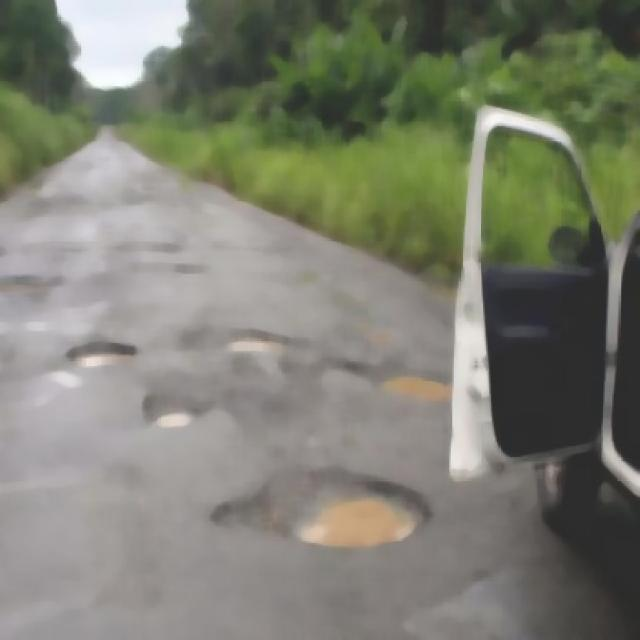Pothole: (260, 466, 418, 540), (378, 362, 458, 413), (226, 309, 282, 366), (74, 335, 146, 379), (151, 393, 204, 432)
